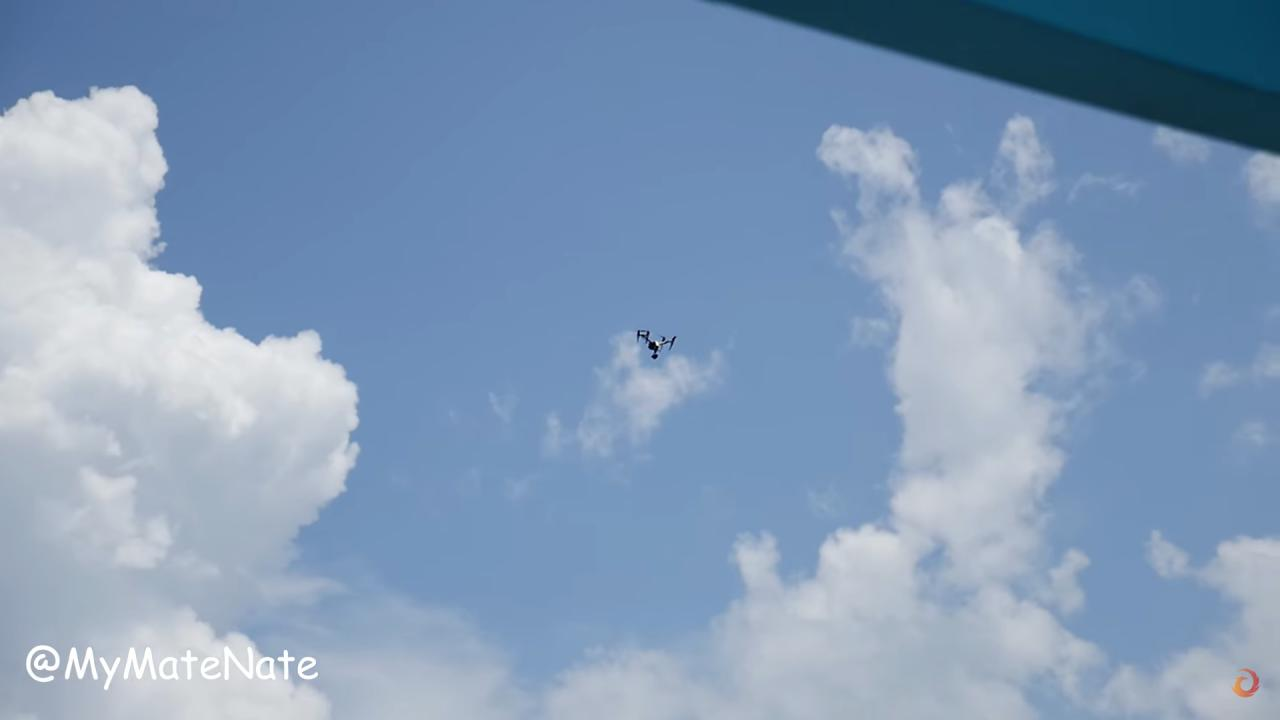Drone: (613, 311, 697, 377)
